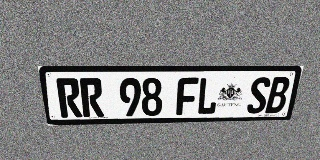8: (142, 78, 163, 116)
9: (119, 78, 141, 116)
B: (265, 77, 291, 113)
F: (176, 77, 199, 115)
L: (196, 77, 220, 115)
R: (56, 78, 82, 118), (79, 78, 104, 117)
S: (246, 77, 272, 114)
